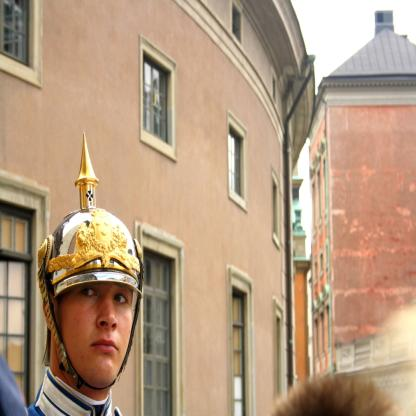Helmet: (40, 132, 146, 394)
